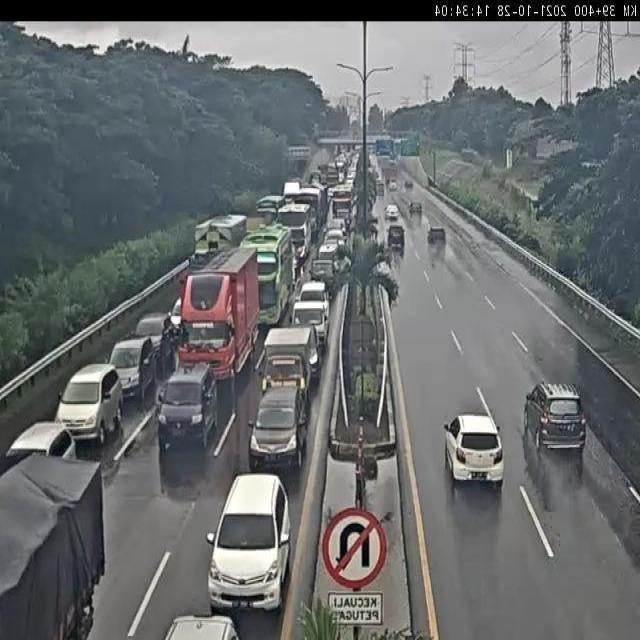Bus: (245, 224, 292, 322), (281, 206, 310, 258)
Car: (201, 476, 299, 608), (60, 363, 123, 446), (161, 371, 226, 449), (445, 410, 505, 492), (520, 381, 585, 456), (250, 388, 308, 467), (6, 420, 76, 468), (105, 338, 152, 397), (162, 612, 244, 640), (134, 315, 175, 357), (292, 302, 326, 338), (298, 282, 329, 312), (312, 261, 338, 286), (384, 225, 407, 247), (428, 225, 449, 249), (384, 202, 400, 222), (408, 199, 424, 218), (388, 177, 399, 195)
Truck: (0, 463, 120, 636), (181, 254, 256, 374), (258, 329, 312, 388), (190, 207, 246, 257), (298, 186, 330, 233)
